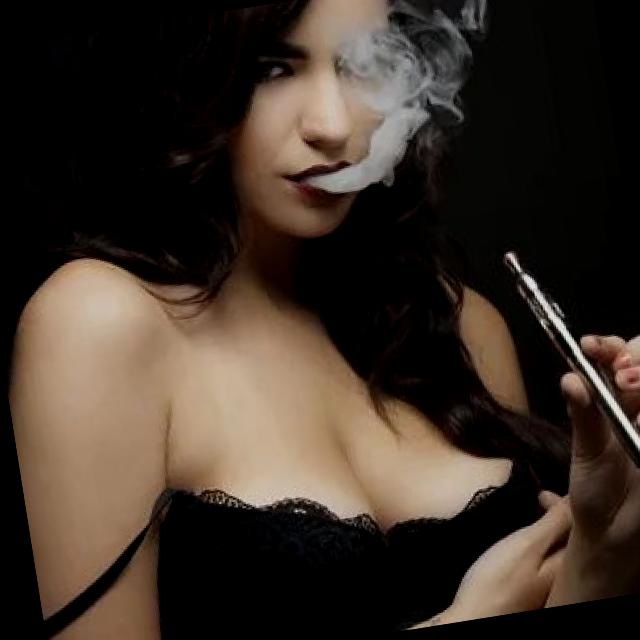cigarette: (495, 229, 640, 486)
